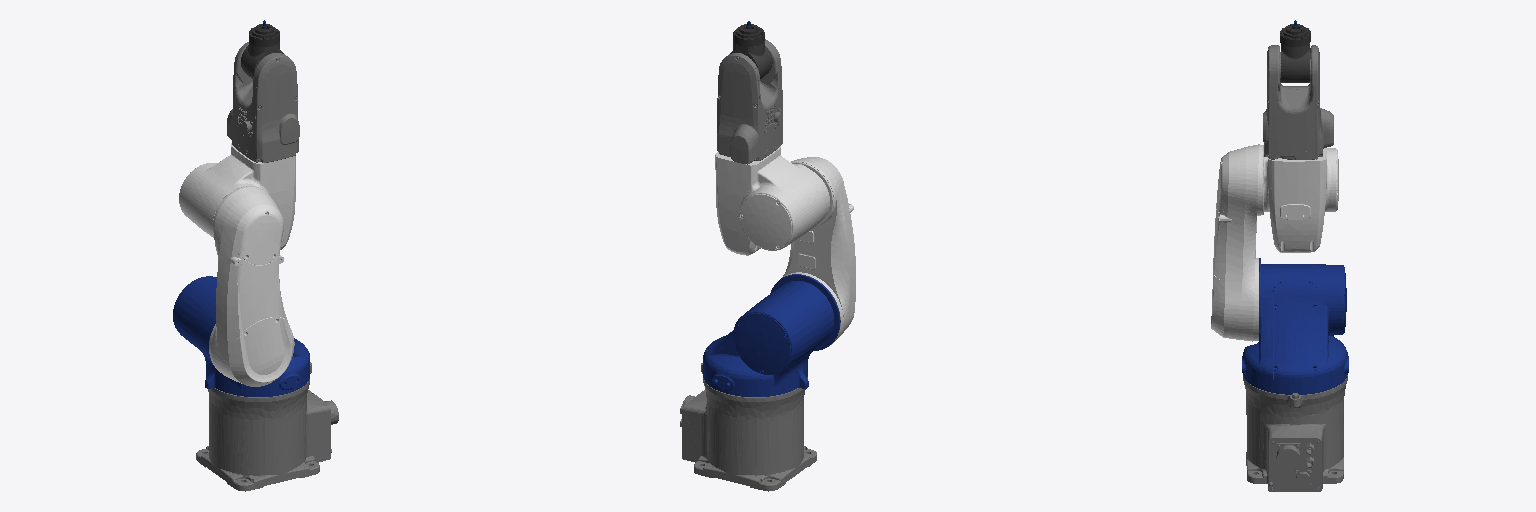
URDF robot description (denso_vs6556):
<?xml version="1.0"?>
<robot name="denso_vs6556">

  <!-- base_link (c001) -->
  <link name="base_link">
    <inertial>
      <origin xyz="0 0 0.09" rpy="0 0 0"/>
      <mass value="12.5"/>
      <inertia ixx="0.062" ixy="0.0" ixz="0.0" iyy="0.062" iyz="0.0" izz="0.078"/>
    </inertial>
    <visual>
      <origin xyz="-0.11555 0.11564 0.0" rpy="1.570796 0 0"/>
      <geometry>
        <mesh filename="package://denso_vs6556/meshes/410590-0080-c001.STL" scale="0.001 0.001 0.001"/>
      </geometry>
      <material name="denso_gray">
        <color rgba="0.5 0.5 0.5 1.0"/>
      </material>
    </visual>
    <collision>
      <origin xyz="-0.11555 0.11564 0.0" rpy="1.570796 0 0"/>
      <geometry>
        <mesh filename="package://denso_vs6556/meshes/410590-0080-c001.STL" scale="0.001 0.001 0.001"/>
      </geometry>
    </collision>
  </link>

  <!-- link_1 (c002, shoulder) -->
  <link name="link_1">
    <inertial>
      <origin xyz="-0.04 0.0 0.08" rpy="0 0 0"/>
      <mass value="7.5"/>
      <inertia ixx="0.058" ixy="0.0" ixz="0.0" iyy="0.058" iyz="0.0" izz="0.042"/>
    </inertial>
    <visual>
      <origin xyz="-0.16000 0.11000 -0.02000" rpy="1.570796 0 0"/>
      <geometry>
        <mesh filename="package://denso_vs6556/meshes/410590-0080-c002.STL" scale="0.001 0.001 0.001"/>
      </geometry>
      <material name="denso_blue">
        <color rgba="0.15 0.25 0.55 1.0"/>
      </material>
    </visual>
    <collision>
      <origin xyz="-0.16000 0.11000 -0.02000" rpy="1.570796 0 0"/>
      <geometry>
        <mesh filename="package://denso_vs6556/meshes/410590-0080-c002.STL" scale="0.001 0.001 0.001"/>
      </geometry>
    </collision>
  </link>

  <!-- link_2 (c003, upper arm) -->
  <link name="link_2">
    <inertial>
      <origin xyz="0.0 -0.041 0.120" rpy="0 0 0"/>
      <mass value="6.3"/>
      <inertia ixx="0.068" ixy="0.0" ixz="0.0" iyy="0.060" iyz="0.0" izz="0.023"/>
    </inertial>
    <visual>
      <origin xyz="-0.08719 0.02550 -0.08557" rpy="1.570796 0 0"/>
      <geometry>
        <mesh filename="package://denso_vs6556/meshes/410590-0080-c003.STL" scale="0.001 0.001 0.001"/>
      </geometry>
      <material name="denso_white">
        <color rgba="0.85 0.85 0.85 1.0"/>
      </material>
    </visual>
    <collision>
      <origin xyz="-0.08719 0.02550 -0.08557" rpy="1.570796 0 0"/>
      <geometry>
        <mesh filename="package://denso_vs6556/meshes/410590-0080-c003.STL" scale="0.001 0.001 0.001"/>
      </geometry>
    </collision>
  </link>

  <!-- link_3 (c004, elbow) -->
  <link name="link_3">
    <inertial>
      <origin xyz="0.045 0.075 0.010" rpy="0 0 0"/>
      <mass value="4.8"/>
      <inertia ixx="0.031" ixy="0.0" ixz="0.0" iyy="0.031" iyz="0.0" izz="0.016"/>
    </inertial>
    <visual>
      <!-- Aligned with joint_3 elbow pitch axis matching SolidWorks VS-6556-B_asm.STL -->
      <origin xyz="-0.07250 0.15800 0.10802" rpy="1.570796 1.570796 0"/>
      <geometry>
        <mesh filename="package://denso_vs6556/meshes/410590-0080-c004.STL" scale="0.001 0.001 0.001"/>
      </geometry>
      <material name="denso_white2">
        <color rgba="0.85 0.85 0.85 1.0"/>
      </material>
    </visual>
    <collision>
      <origin xyz="-0.07250 0.15800 0.10802" rpy="1.570796 1.570796 0"/>
      <geometry>
        <mesh filename="package://denso_vs6556/meshes/410590-0080-c004.STL" scale="0.001 0.001 0.001"/>
      </geometry>
    </collision>
  </link>

  <!-- link_4 (c005, forearm) -->
  <link name="link_4">
    <inertial>
      <origin xyz="0 0 0.10" rpy="0 0 0"/>
      <mass value="2.6"/>
      <inertia ixx="0.020" ixy="0.0" ixz="0.0" iyy="0.020" iyz="0.0" izz="0.0065"/>
    </inertial>
    <visual>
      <!-- Aligned with forearm roll axis matching SolidWorks VS-6556-B_asm.STL -->
      <origin xyz="0.05660 -0.06700 0.23350" rpy="-1.570796 1.570796 0"/>
      <geometry>
        <mesh filename="package://denso_vs6556/meshes/410590-0080-c005.STL" scale="0.001 0.001 0.001"/>
      </geometry>
      <material name="denso_gray2">
        <color rgba="0.5 0.5 0.5 1.0"/>
      </material>
    </visual>
    <collision>
      <origin xyz="0.05660 -0.06700 0.23350" rpy="-1.570796 1.570796 0"/>
      <geometry>
        <mesh filename="package://denso_vs6556/meshes/410590-0080-c005.STL" scale="0.001 0.001 0.001"/>
      </geometry>
    </collision>
  </link>

  <!-- link_5 (c006, wrist knuckle / pitch) -->
  <link name="link_5">
    <inertial>
      <origin xyz="0.0 0.0 0.0163" rpy="0 0 0"/>
      <mass value="1.0"/>
      <inertia ixx="0.000860" ixy="0.0" ixz="0.0" iyy="0.001000" iyz="0.0" izz="0.000667"/>
    </inertial>
    <visual>
      <!-- Origin set at wrist pitch axis matching SolidWorks VS-6556-B_asm.STL -->
      <origin xyz="-0.04093 0.03242 0.06204" rpy="1.570796 1.570796 0"/>
      <geometry>
        <mesh filename="package://denso_vs6556/meshes/410590-0080-c006.STL" scale="0.001 0.001 0.001"/>
      </geometry>
      <material name="denso_dark">
        <color rgba="0.3 0.3 0.3 1.0"/>
      </material>
    </visual>
    <collision>
      <origin xyz="-0.04093 0.03242 0.06204" rpy="1.570796 1.570796 0"/>
      <geometry>
        <mesh filename="package://denso_vs6556/meshes/410590-0080-c006.STL" scale="0.001 0.001 0.001"/>
      </geometry>
    </collision>
  </link>

  <!-- link_6 (c007, tool flange / wrist roll) -->
  <link name="link_6">
    <inertial>
      <origin xyz="0.0 0.0 0.01126" rpy="0 0 0"/>
      <mass value="0.30"/>
      <inertia ixx="0.000086" ixy="0.0" ixz="0.0" iyy="0.000086" iyz="0.0" izz="0.000144"/>
    </inertial>
    <visual>
      <origin xyz="0 0 0" rpy="0 0 0"/>
      <geometry>
        <mesh filename="package://denso_vs6556/meshes/410590-0080-c006_flange.STL" scale="0.001 0.001 0.001"/>
      </geometry>
      <material name="denso_gray1">
        <color rgba="0.25 0.25 0.25 1.0"/>
      </material>
    </visual>
    <collision>
      <origin xyz="0 0 0.014" rpy="0 0 0"/>
      <geometry>
        <cylinder radius="0.0325" length="0.028"/>
      </geometry>
    </collision>
  </link>

  <!-- joint_1: base_link -> link_1 (shoulder yaw, Z axis) -->
  <joint name="joint_1" type="revolute">
    <parent link="base_link"/>
    <child link="link_1"/>
    <origin xyz="0 0 0.205" rpy="0 0 0"/>
    <axis xyz="0 0 1"/>
    <limit lower="-3.054326" upper="3.054326" effort="80" velocity="4.5815"/>
    <dynamics damping="0.8" friction="0.5"/>
  </joint>

  <!-- joint_2: link_1 -> link_2 (shoulder pitch, Y axis) -->
  <joint name="joint_2" type="revolute">
    <parent link="link_1"/>
    <child link="link_2"/>
    <origin xyz="-0.075 -0.0745 0.130" rpy="0 0 0"/>
    <axis xyz="0 -1 0"/>
    <limit lower="-2.094395" upper="2.356194" effort="100" velocity="4.1888"/>
    <dynamics damping="1.2" friction="0.8"/>
  </joint>

  <!-- joint_3: link_2 -> link_3 (elbow pitch, Y axis) -->
  <joint name="joint_3" type="revolute">
    <parent link="link_2"/>
    <child link="link_3"/>
    <origin xyz="0 0.0065 0.270" rpy="0 0 0"/>
    <axis xyz="0 -1 0"/>
    <limit lower="-2.181662" upper="2.967060" effort="60" velocity="5.2360"/>
    <dynamics damping="0.9" friction="0.6"/>
  </joint>

  <!-- joint_4: link_3 -> link_4 (forearm roll, Z axis) -->
  <joint name="joint_4" type="revolute">
    <parent link="link_3"/>
    <child link="link_4"/>
    <origin xyz="0.090 0.068 0.109" rpy="0 0 0"/>
    <axis xyz="0 0 1"/>
    <limit lower="-3.316126" upper="3.316126" effort="25" velocity="5.2360"/>
    <dynamics damping="0.3" friction="0.2"/>
  </joint>

  <!-- joint_5: link_4 -> link_5 (wrist pitch, Y axis) -->
  <joint name="joint_5" type="revolute">
    <parent link="link_4"/>
    <child link="link_5"/>
    <origin xyz="0 0 0.186" rpy="0 0 0"/>
    <axis xyz="0 -1 0"/>
    <limit lower="-2.199115" upper="2.199115" effort="20" velocity="5.2360"/>
    <dynamics damping="0.2" friction="0.15"/>
  </joint>

  <!-- joint_6: link_5 -> link_6 (wrist roll / flange twist, Z axis) -->
  <joint name="joint_6" type="revolute">
    <parent link="link_5"/>
    <child link="link_6"/>
    <origin xyz="0 0 0.06204" rpy="0 0 0"/>
    <axis xyz="0 0 1"/>
    <limit lower="-6.283185" upper="6.283185" effort="15" velocity="7.3304"/>
    <dynamics damping="0.1" friction="0.05"/>
  </joint>

  
  <!-- ======================================================== -->
  <!-- HIGH-PRECISION ROBOTIC COMPACT STYLUS TOOL               -->
  <!-- ======================================================== -->
  <link name="pen_tool_link">
    <!-- Flange Mounting Collar -->
    <visual>
      <origin xyz="0 0 0.0025" rpy="0 0 0"/>
      <geometry>
        <cylinder radius="0.006" length="0.005"/>
      </geometry>
      <material name="pen_adapter">
        <color rgba="0.18 0.22 0.30 1.0"/>
      </material>
    </visual>
    <!-- Compact Stylus Body / Barrel -->
    <visual>
      <origin xyz="0 0 0.0085" rpy="0 0 0"/>
      <geometry>
        <cylinder radius="0.0035" length="0.007"/>
      </geometry>
      <material name="pen_barrel">
        <color rgba="0.12 0.20 0.35 1.0"/>
      </material>
    </visual>
    <!-- Stylus Nib (15mm Tip) -->
    <visual>
      <origin xyz="0 0 0.014" rpy="0 0 0"/>
      <geometry>
        <sphere radius="0.0025"/>
      </geometry>
      <material name="pen_nib">
        <color rgba="0.10 0.30 0.60 1.0"/>
      </material>
    </visual>
    <collision>
      <origin xyz="0 0 0.008" rpy="0 0 0"/>
      <geometry>
        <cylinder radius="0.006" length="0.016"/>
      </geometry>
    </collision>
    <inertial>
      <origin xyz="0 0 0.008" rpy="0 0 0"/>
      <mass value="0.015"/>
      <inertia ixx="0.000001" ixy="0.0" ixz="0.0" iyy="0.000001" iyz="0.0" izz="0.0000005"/>
    </inertial>
  </link>

  <joint name="joint_pen_tool" type="fixed">
    <parent link="link_6"/>
    <child link="pen_tool_link"/>
    <origin xyz="0 0 0.028" rpy="0 0 0"/>
  </joint>

</robot>

--- Render facts (derived) ---
3 views of the same robot in one strip: view 1: azimuth 30°, elevation 25°; view 2: azimuth 150°, elevation 25°; view 3: azimuth 270°, elevation 25° (orthographic).
Robot: denso_vs6556 — 8 links, 7 joints (6 revolute, 1 fixed); root link base_link; default pose: every joint at zero.
Visible links, largest first — view 1: link_2, base_link, link_4, link_3, link_1, link_5, link_6; view 2: link_1, base_link, link_3, link_4, link_2, link_5, link_6; view 3: link_1, base_link, link_2, link_3, link_4, link_5, link_6.
Boxes of the visible links, <box> form: link_2: <box>209,186,294,386</box>; base_link: <box>196,362,338,491</box>; link_4: <box>227,42,299,162</box>; link_3: <box>179,143,295,249</box>; link_1: <box>173,276,309,396</box>; link_5: <box>241,42,283,78</box>; link_6: <box>249,24,279,46</box>; link_1: <box>703,274,840,396</box>; base_link: <box>680,363,816,491</box>; link_3: <box>715,146,833,255</box>; link_4: <box>717,39,782,164</box>; link_2: <box>782,157,855,344</box>; link_5: <box>730,41,772,78</box>; link_6: <box>733,24,764,46</box>; link_1: <box>1242,258,1348,394</box>; base_link: <box>1243,375,1347,491</box>; link_2: <box>1211,144,1261,341</box>; link_3: <box>1262,145,1338,252</box>; link_4: <box>1263,45,1333,159</box>; link_5: <box>1281,43,1309,82</box>; link_6: <box>1280,24,1310,46</box>.
Bounding box of the posed robot: 0.332 × 0.283 × 1.01 m (x, y, z).
7 mesh visuals loaded from 7 distinct referenced files (7 binary STL).
